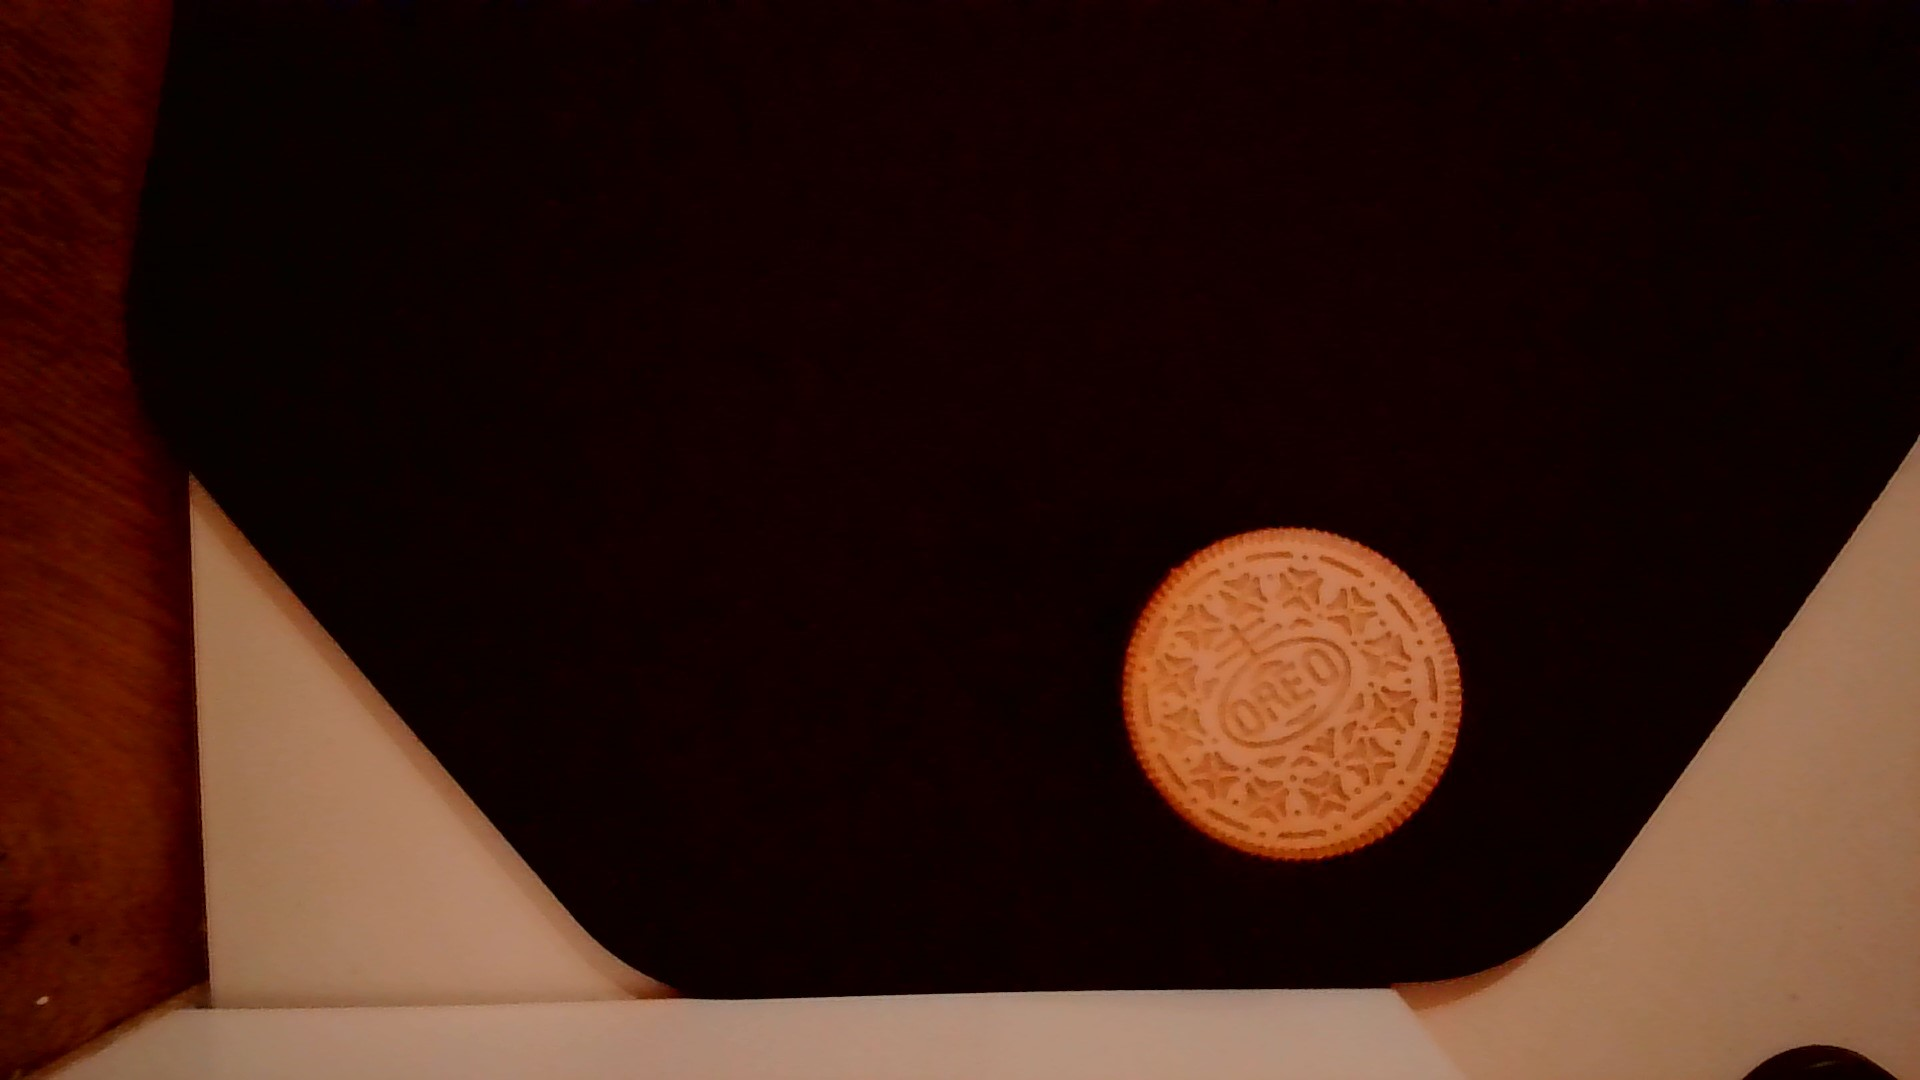Oréo: (1116, 520, 1468, 882)
